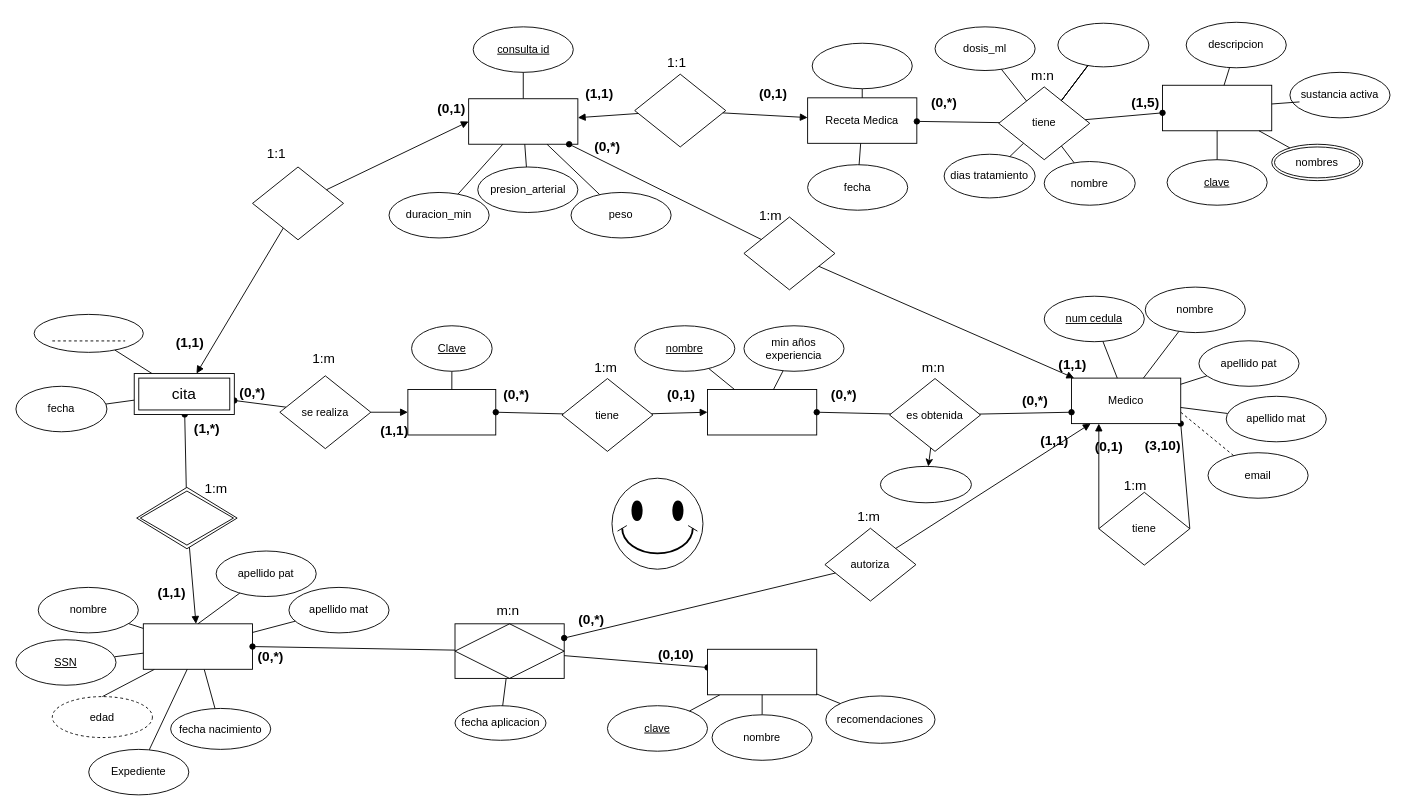
This 1406x811 diagram has some shape labels left out. Each missing label, with the centre of its shape:
"años experiencia" belongs at point 925,484.
"Consulta" belongs at point 523,121.
"Consultorio" belongs at point 451,412.
"es generada" belongs at point 298,203.
"es realizada" belongs at point 789,253.
"Es solicitada" belongs at point 186,517.
"Especialidad" belongs at point 762,412.
"folio" belongs at point 861,65.
"frecuencia hrs" belongs at point 1103,44.
"genera" belongs at point 680,110.
"Medicamento" belongs at point 1217,107.
"num_cita" belongs at point 88,332.
"Paciente" belongs at point 197,646.
"Se aplica" belongs at point 509,650.
"Vacuna" belongs at point 762,671.
